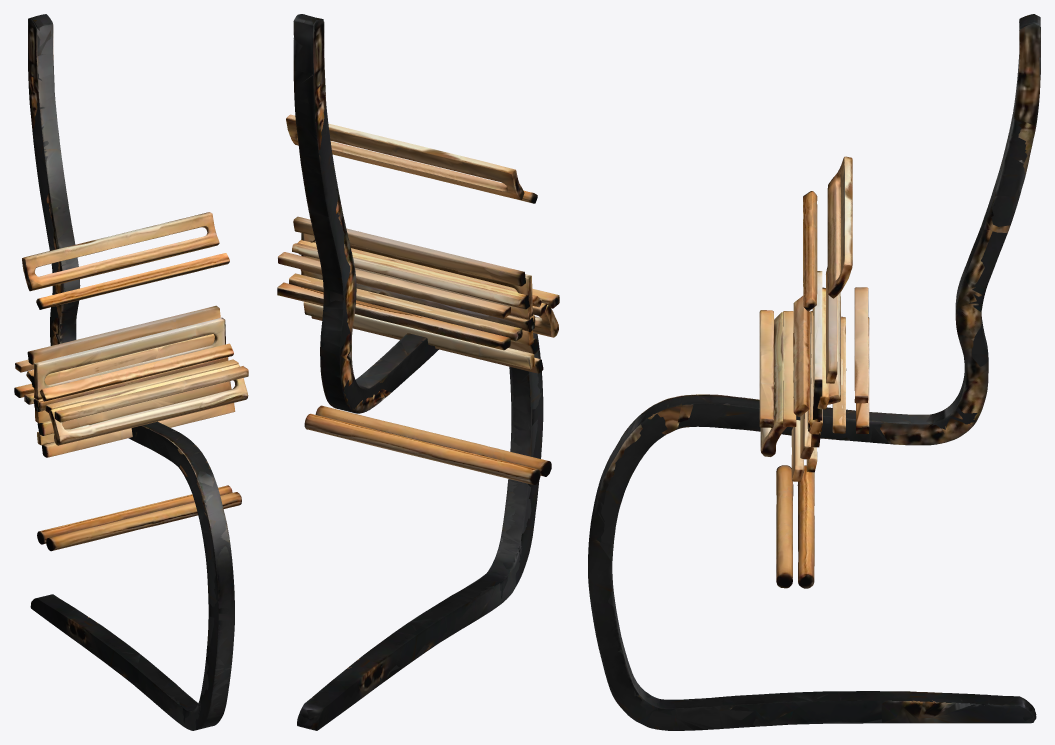
3 views of the same model, side by side, from view 1: azimuth 30°, elevation 25°; view 2: azimuth 150°, elevation 25°; view 3: azimuth 270°, elevation 25° (orthographic). The views are drawn at different scales.
Visible parts, largest first — view 1: root.0, root.2, root.4, root.1, root.3, root.5, root.6, root.7; view 2: root.1, root.0, root.2, root.3, root.4, root.6, root.5, root.7; view 3: root.1, root.0, root.2, root.3, root.4, root.6, root.7, root.5.
Part boxes in pixels (x1=…): root.0: x1=28, y1=14, x2=234, y2=729; root.2: x1=22, y1=212, x2=241, y2=551; root.4: x1=27, y1=305, x2=235, y2=457; root.1: x1=28, y1=16, x2=234, y2=730; root.3: x1=15, y1=343, x2=248, y2=445; root.5: x1=34, y1=317, x2=225, y2=445; root.6: x1=14, y1=366, x2=248, y2=422; root.7: x1=24, y1=357, x2=238, y2=412; root.1: x1=293, y1=16, x2=542, y2=730; root.0: x1=293, y1=14, x2=543, y2=730; root.2: x1=286, y1=114, x2=551, y2=484; root.3: x1=278, y1=242, x2=558, y2=337; root.4: x1=293, y1=216, x2=543, y2=373; root.6: x1=277, y1=248, x2=559, y2=350; root.5: x1=301, y1=233, x2=534, y2=369; root.7: x1=289, y1=273, x2=546, y2=341; root.1: x1=588, y1=14, x2=1040, y2=730; root.0: x1=588, y1=17, x2=1040, y2=730; root.2: x1=776, y1=156, x2=852, y2=588; root.3: x1=760, y1=287, x2=868, y2=456; root.4: x1=791, y1=267, x2=837, y2=481; root.6: x1=759, y1=310, x2=869, y2=433; root.7: x1=783, y1=311, x2=846, y2=433; root.5: x1=806, y1=271, x2=822, y2=472.
Bounding box in the file's own units: 17281 × 52183 × 30242.
1 material, 1 textured.
